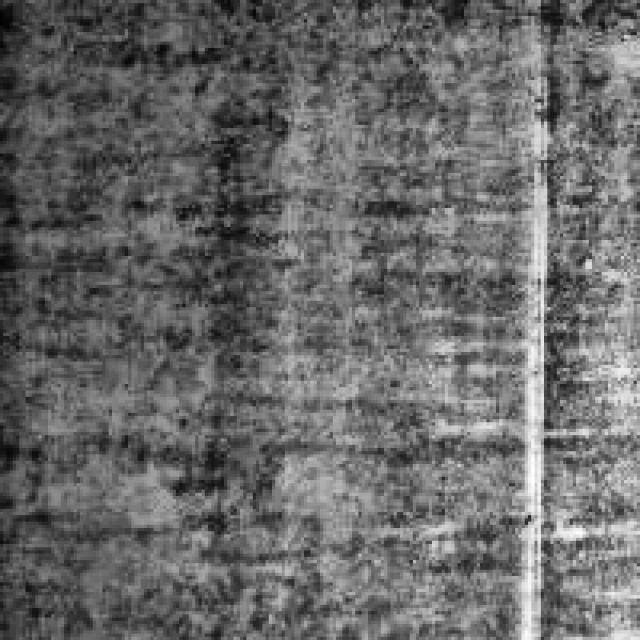Inclusion: (508, 106, 550, 634)
